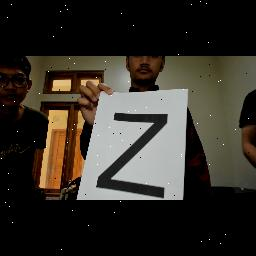z: (91, 105, 181, 197)
